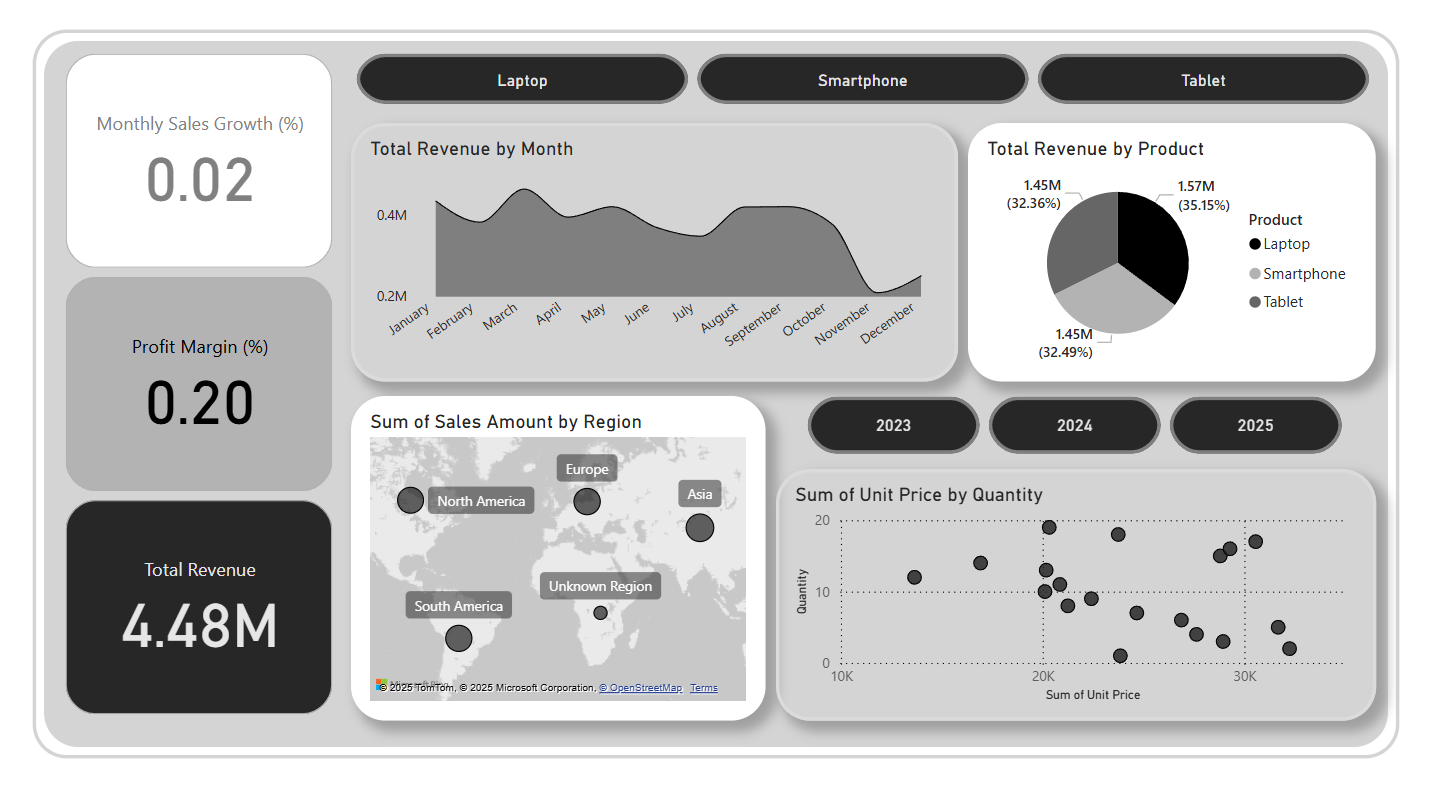

This screenshot's page, from the dashboard's own definition file:
{"tool":"powerbi","page":{"name":"Page 1","canvas":[1280,720],"ordinal":0},"visuals":[{"type":"lineChart","fields":{"Category":["cleaned_sales_data.Order Date.Variation.Date Hierarchy.Month","cleaned_sales_data.Order Date.Variation.Date Hierarchy.Day"],"Y":["cleaned_sales_data.Total Revenue"]},"box":[319.6,120.3,533,226.5],"z":2000},{"type":"pieChart","fields":{"Category":["cleaned_sales_data.Product"],"Y":["cleaned_sales_data.Total Revenue"]},"box":[861.4,120.3,358.2,226.5],"z":3000},{"type":"map","fields":{"Category":["cleaned_sales_data.Region"],"Size":["Sum(cleaned_sales_data.Sales Amount)"]},"box":[319.6,360,364.4,285.4],"z":4000},{"type":"scatterChart","fields":{"X":["Sum(cleaned_sales_data.Unit Price)"],"Y":["cleaned_sales_data.Quantity"]},"box":[692.8,424.1,526.8,221.3],"z":5000},{"type":"advancedSlicerVisual","fields":{"Values":["cleaned_sales_data.Year"]},"box":[715.6,355.6,481.2,60.6],"z":5001},{"type":"cardVisual","fields":{"Data":["cleaned_sales_data.Monthly Sales Growth (%)","cleaned_sales_data.Profit Margin (%)","cleaned_sales_data.Total Revenue"]},"box":[64.1,54.4,245,590.9],"z":5002},{"type":"advancedSlicerVisual","fields":{"Values":["cleaned_sales_data.Product"]},"box":[319.6,54.4,900,54.4],"z":5003}]}

Visuals, with their boxes in screenshot pixels (x1, y1, x2, y2), scaled from the page's 1280x720 canvas onto the 1431x793 screenshot:
lineChart - cleaned_sales_data.Order Date.Variation.Date Hierarchy.Month x cleaned_sales_data.Order Date.Variation.Date Hierarchy.Day: bbox(357, 132, 953, 382)
pieChart - cleaned_sales_data.Product x cleaned_sales_data.Total Revenue: bbox(963, 132, 1363, 382)
map - cleaned_sales_data.Region x Sum(cleaned_sales_data.Sales Amount): bbox(357, 397, 765, 711)
scatterChart - Sum(cleaned_sales_data.Unit Price) x cleaned_sales_data.Quantity: bbox(775, 467, 1363, 711)
advancedSlicerVisual - cleaned_sales_data.Year: bbox(800, 392, 1338, 458)
cardVisual - cleaned_sales_data.Monthly Sales Growth (%) x cleaned_sales_data.Profit Margin (%): bbox(72, 60, 346, 711)
advancedSlicerVisual - cleaned_sales_data.Product: bbox(357, 60, 1363, 120)
